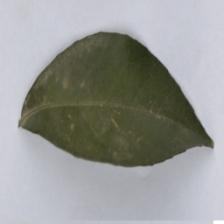healthy: (17, 29, 214, 169)
